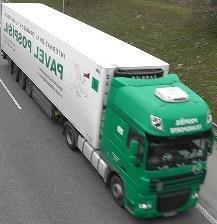Truck: (2, 4, 216, 222)
